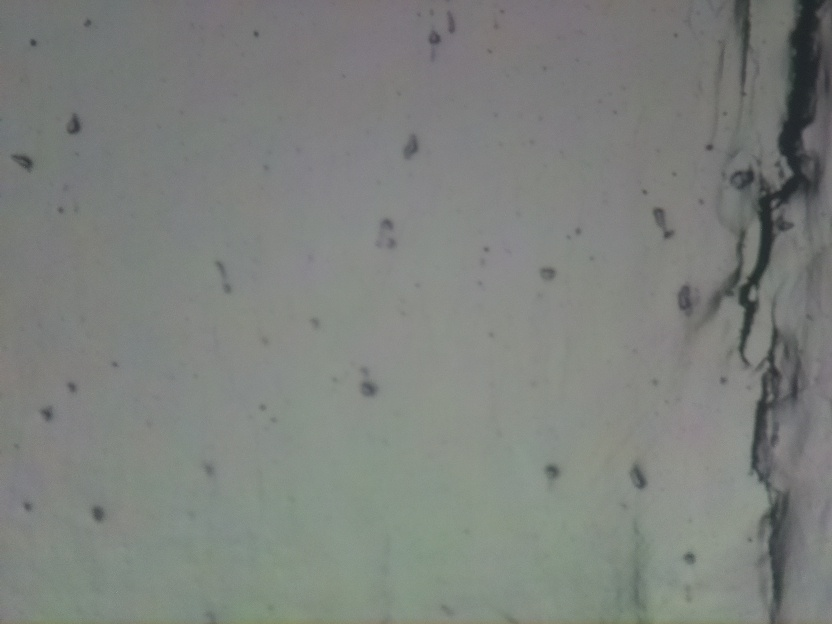crack: (735, 0, 822, 364), (748, 281, 806, 624)
